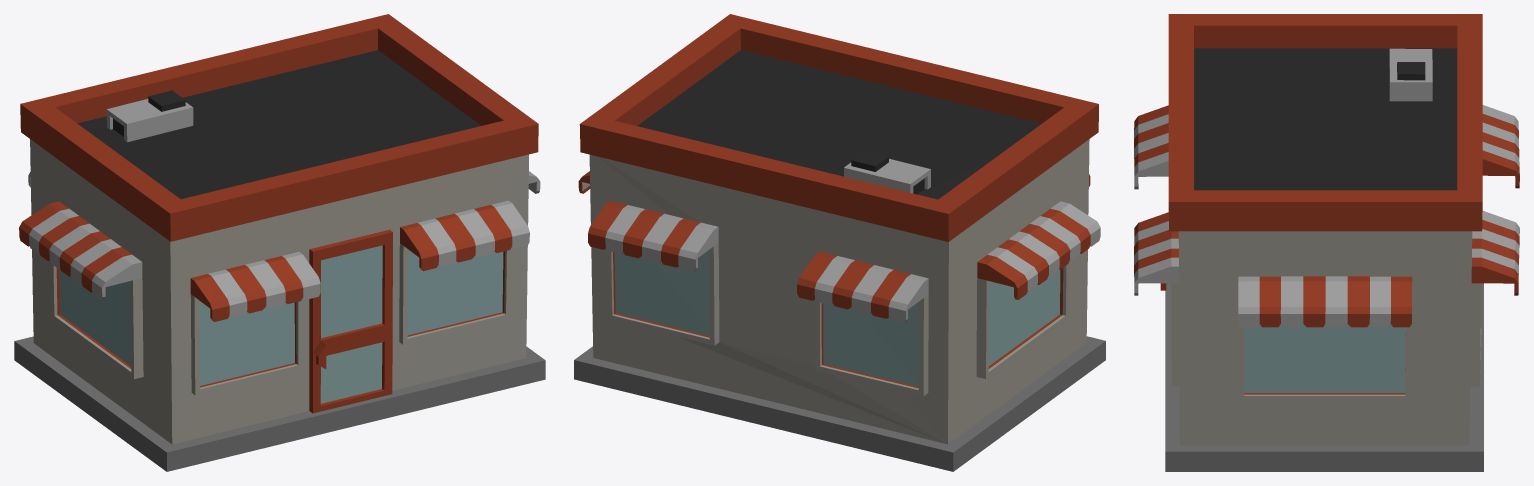
Rendered from bati-Shop.glb.
3 renders of one model, left to right at view 1: azimuth 30°, elevation 25°; view 2: azimuth 150°, elevation 25°; view 3: azimuth 270°, elevation 25°, orthographic. The views are drawn at different scales.
Parts seen in each view (by area): view 1: Shop_Cube.006; view 2: Shop_Cube.006; view 3: Shop_Cube.006.
Boxes of the visible parts, x1=… form: Shop_Cube.006: x1=14, y1=14, x2=545, y2=471; Shop_Cube.006: x1=574, y1=14, x2=1105, y2=471; Shop_Cube.006: x1=1134, y1=14, x2=1519, y2=471.
Size of the model in its own units: 2.48 by 1.39 by 1.8.
Materials: 1 (1 with a texture image).
